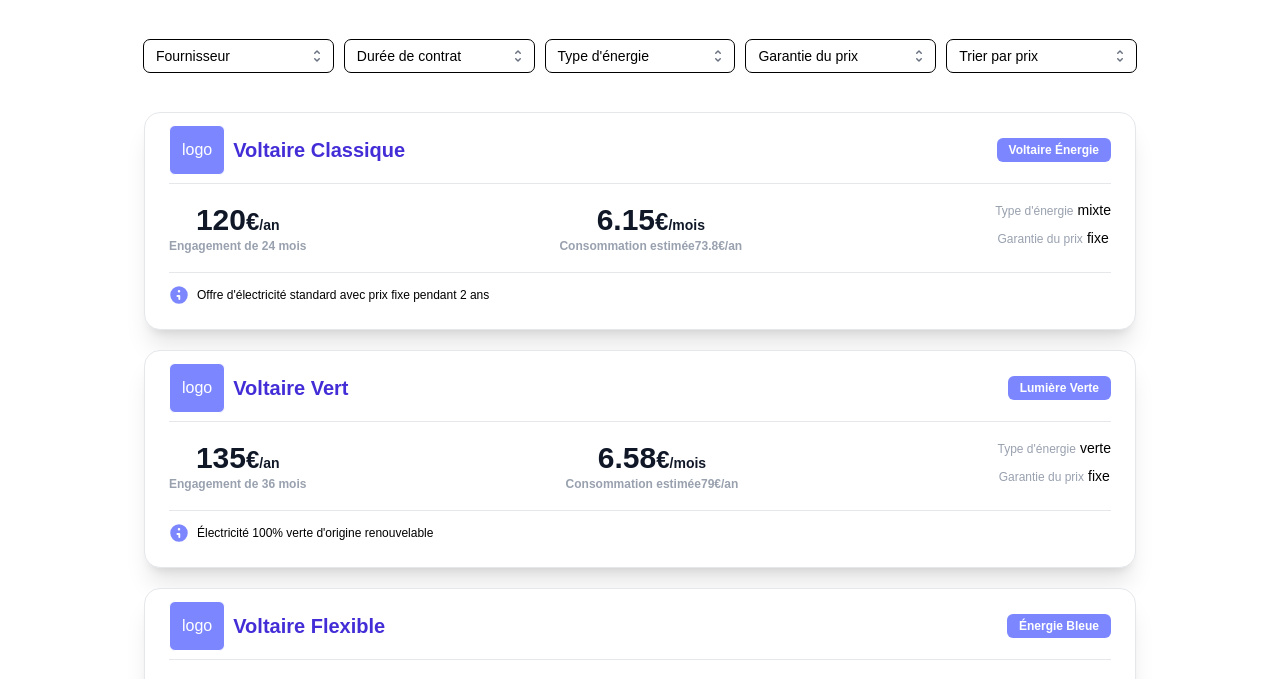
Test: OffersWrapper › Apply an energy type filter <mixte> to the list of offers to display two results
Click the button "Type d'énergie". click: (640, 56)
box: [546,40,734,72]
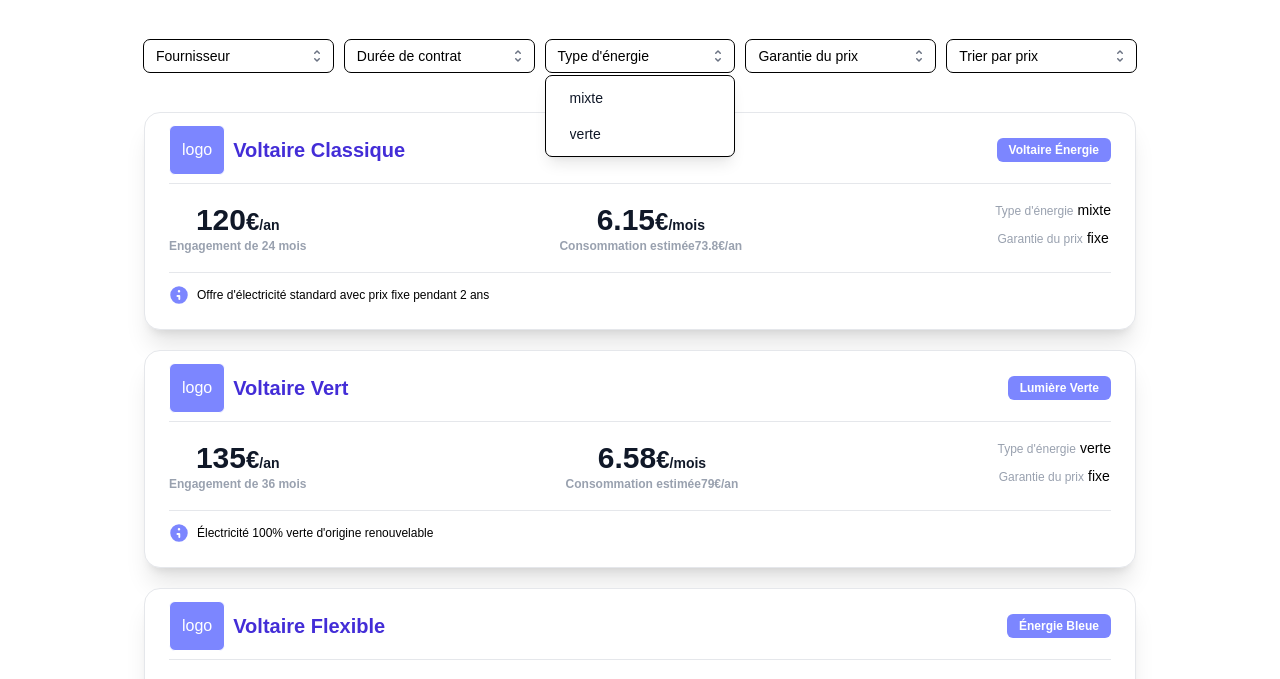
Click the option with test id "option-mixte". click: (586, 98)
box: [570,90,603,106]
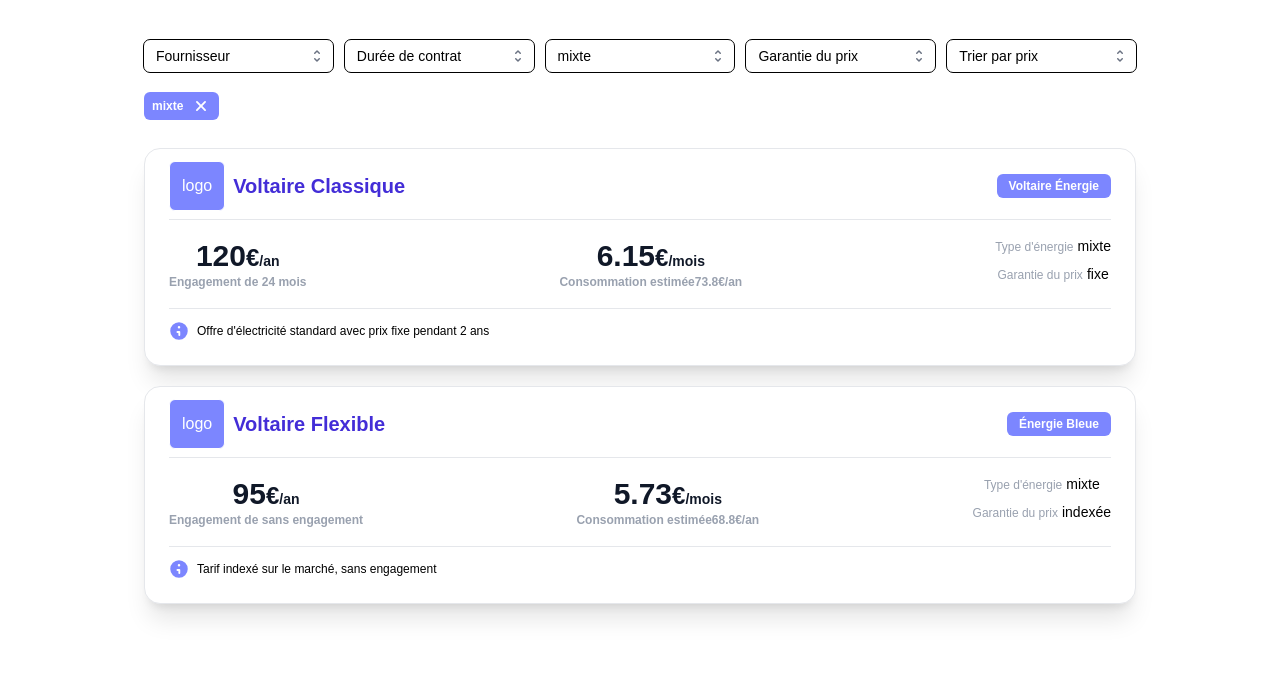
Now the number of elements with test id "offer-card" is 2, box [144,148,1136,366]; [144,386,1136,604]
